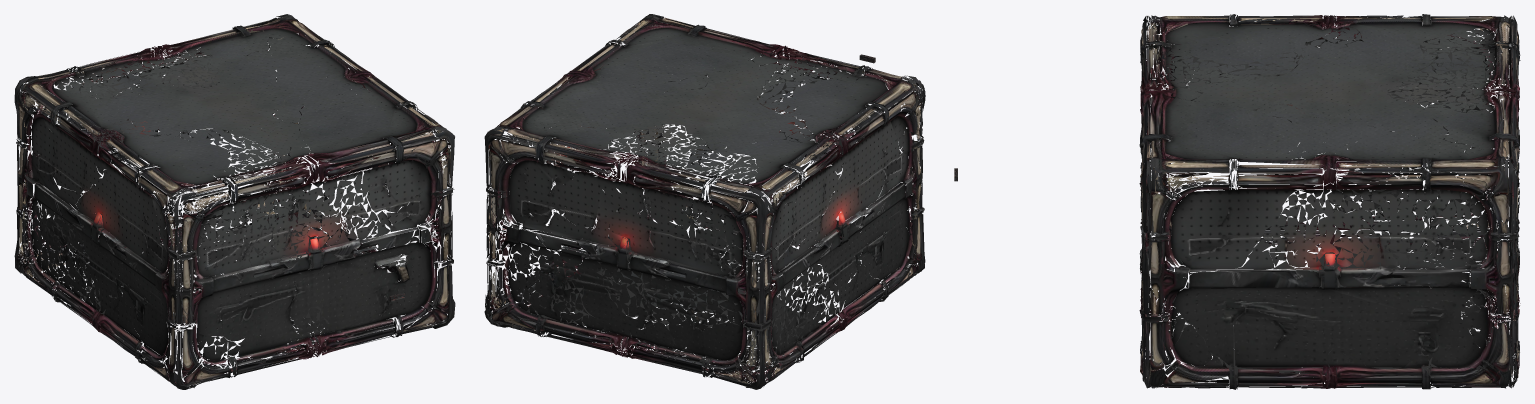
The model's file is vesper_recruited_gun_limber.glb.
3 renders of one model, left to right at view 1: azimuth 30°, elevation 25°; view 2: azimuth 150°, elevation 25°; view 3: azimuth 270°, elevation 25°, orthographic. The views are drawn at different scales.
Visible parts, largest first — view 1: node_0; view 2: node_0; view 3: node_0.
Part boxes in pixels (x1,y1,x2,y2): node_0: [14, 14, 455, 389]; node_0: [484, 14, 925, 389]; node_0: [1139, 14, 1520, 389].
Size of the model in its own units: 0.791 by 0.529 by 1.19.
1 material, 1 textured.
